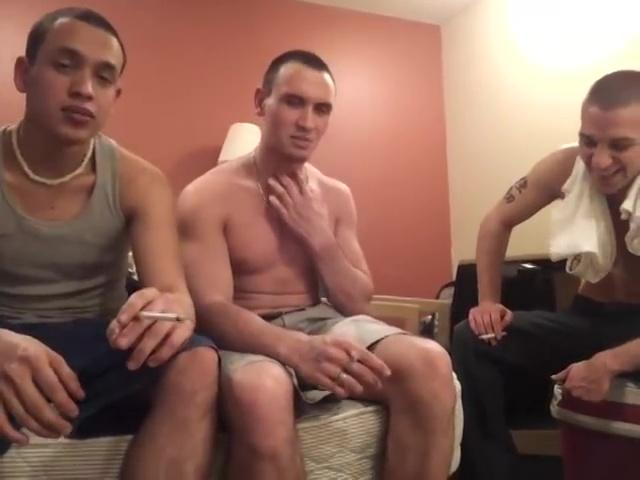cigarette: (134, 308, 183, 323), (478, 329, 507, 340)
